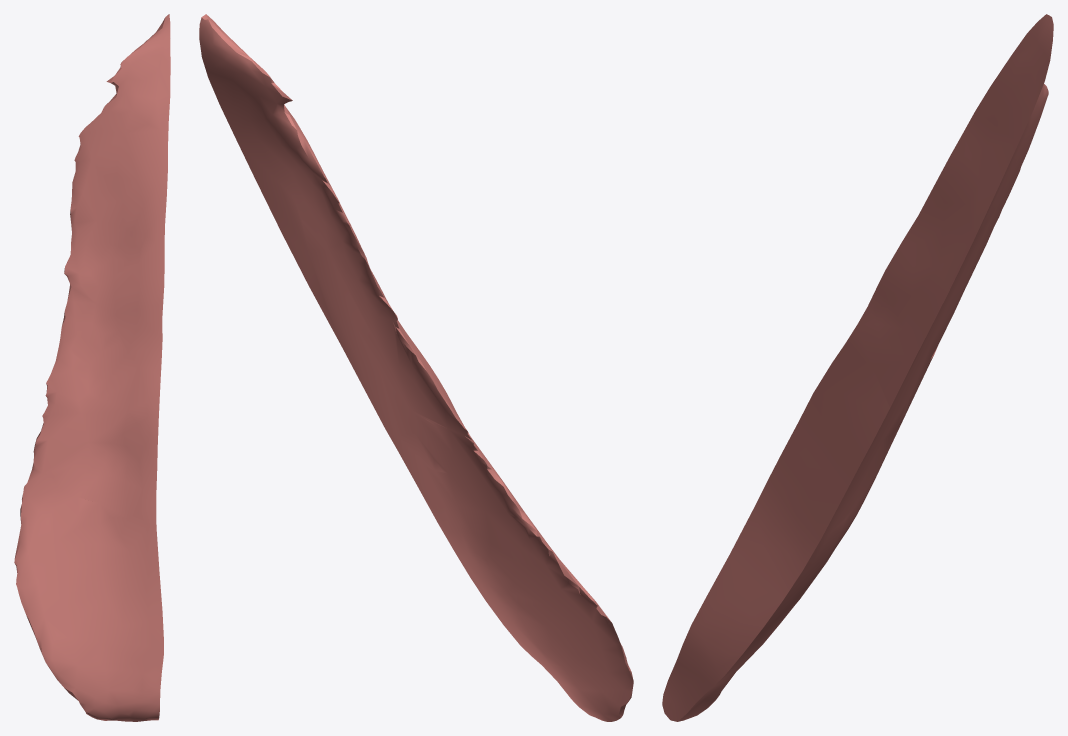
File: fma38692-f_mm1821.glb
3 views of the same model, side by side, from view 1: azimuth 30°, elevation 25°; view 2: azimuth 150°, elevation 25°; view 3: azimuth 270°, elevation 25° (orthographic). The views are drawn at different scales.
Visible parts, largest first — view 1: FMA38692-F_MM1821; view 2: FMA38692-F_MM1821; view 3: FMA38692-F_MM1821.
Boxes of the visible parts, <box> form: FMA38692-F_MM1821: <box>14,14,170,721</box>; FMA38692-F_MM1821: <box>199,14,633,721</box>; FMA38692-F_MM1821: <box>662,14,1053,721</box>.
Size of the model in its own units: 0.0198 by 0.0469 by 0.0206.
